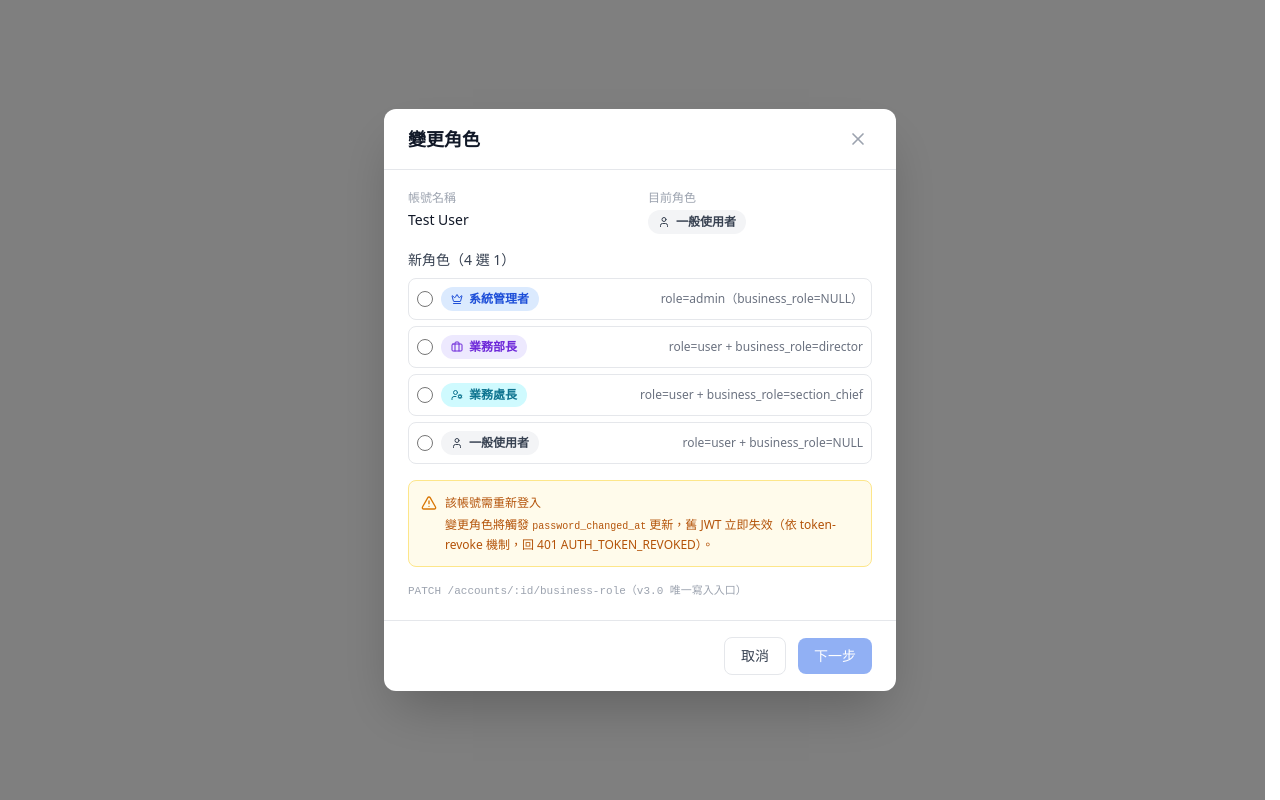
Scenario: ChangeRoleDialog (F006a / AD-E07 v3.0) › loading=true 時，確認按鈕顯示 loading 文字
This screenshot has width=1280, height=800.
What coordinates should you click on to do the following:
click the radio button with test id "new-role-director"
I would click on:
 (425, 347)
Its box is [417,339,433,355].
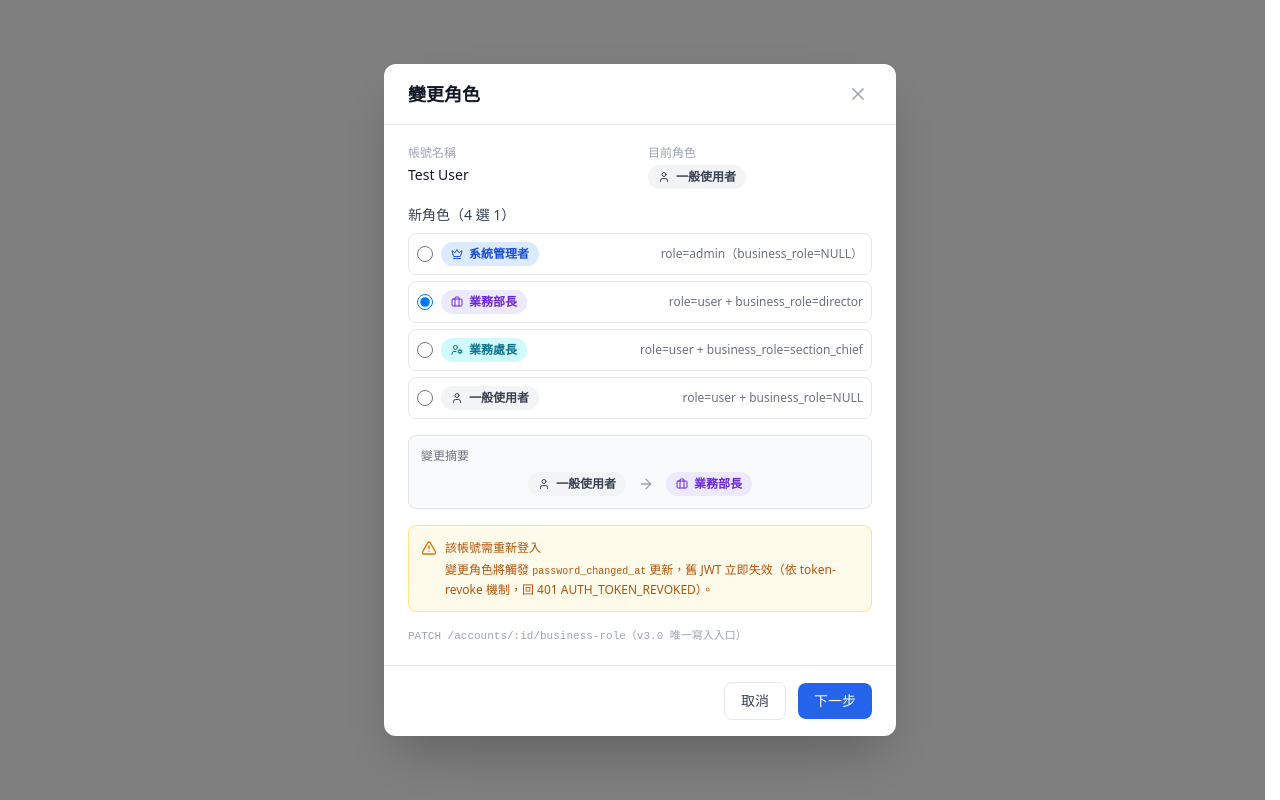
What coordinates should you click on to do the following:
click the button "下一步"
I would click on:
 (835, 701)
Its box is [798,683,872,719].
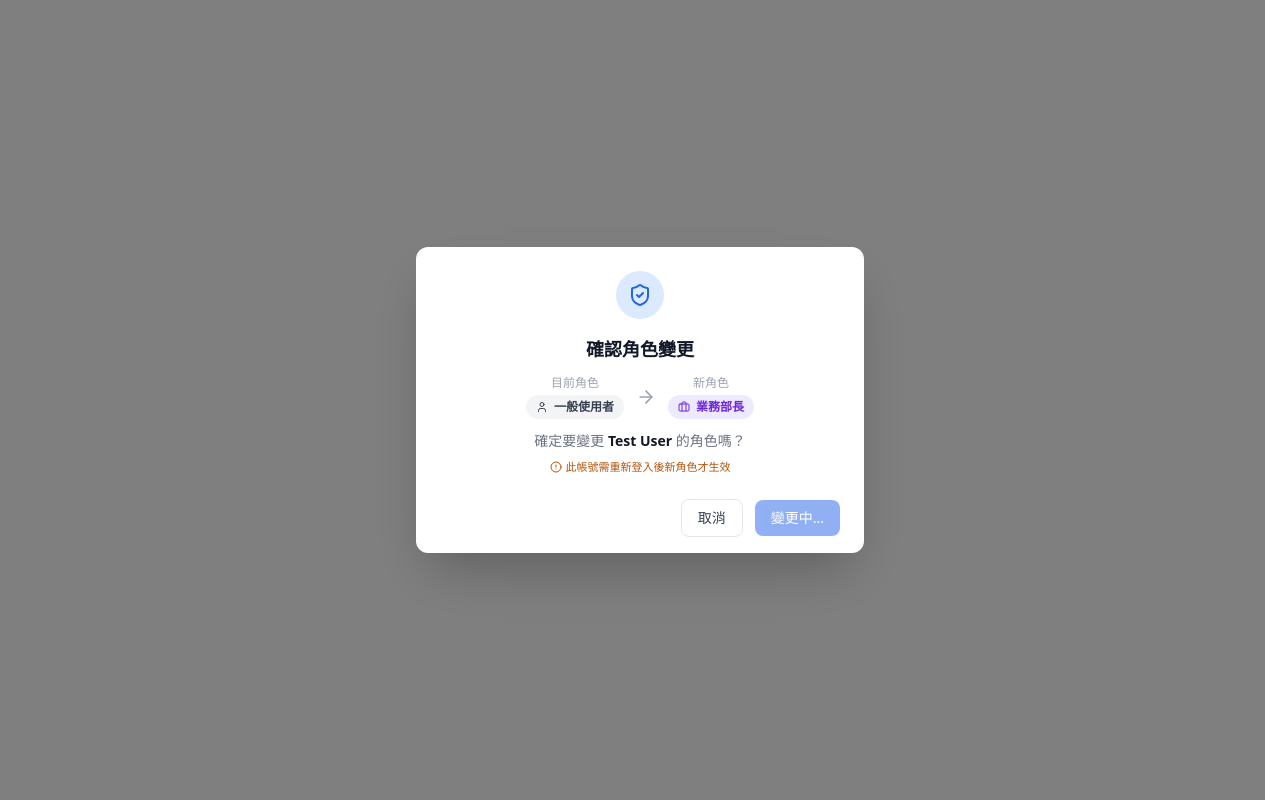
Now the button "變更中..." is shown, box [755,500,840,536]
